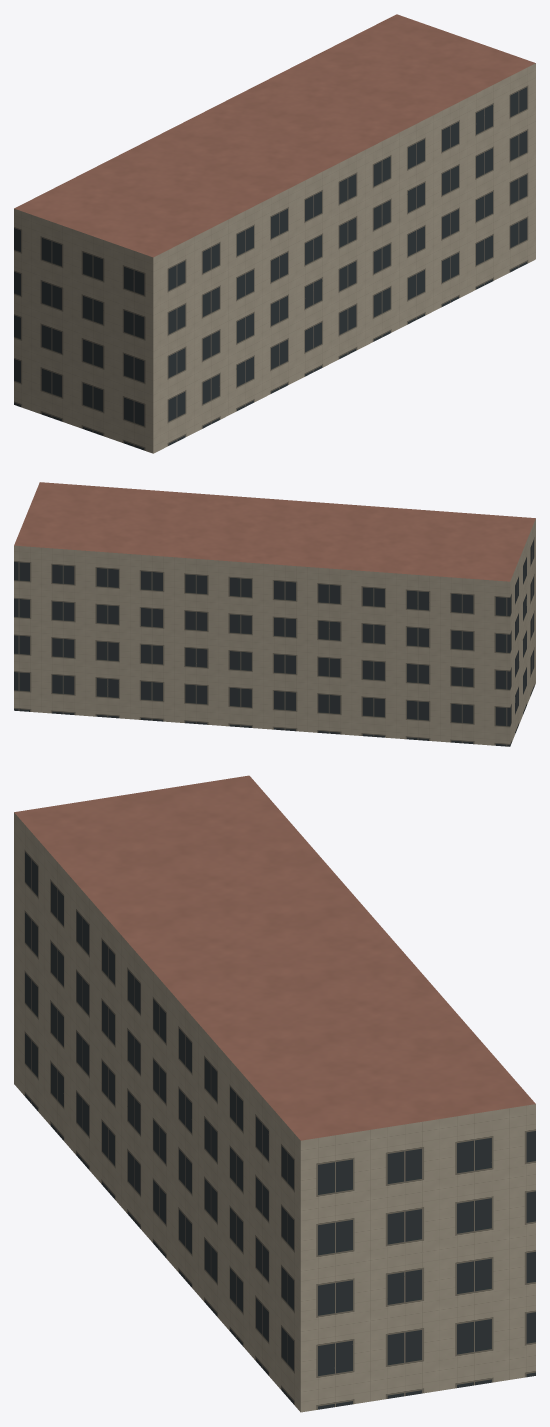
3 views of the same model, one above another, from view 1: azimuth 30°, elevation 25°; view 2: azimuth 150°, elevation 25°; view 3: azimuth 270°, elevation 25° (orthographic). The views are drawn at different scales.
Visible parts, largest first — view 1: hospital-dental-new; view 2: hospital-dental-new; view 3: hospital-dental-new.
Boxes of the visible parts, x1,y1,x2,y2 form: hospital-dental-new: (14,14,535,453); hospital-dental-new: (14,482,535,746); hospital-dental-new: (14,775,535,1412).
Size of the model in its own units: 46.69 by 16.2 by 28.2.
2 materials, 2 textured.
